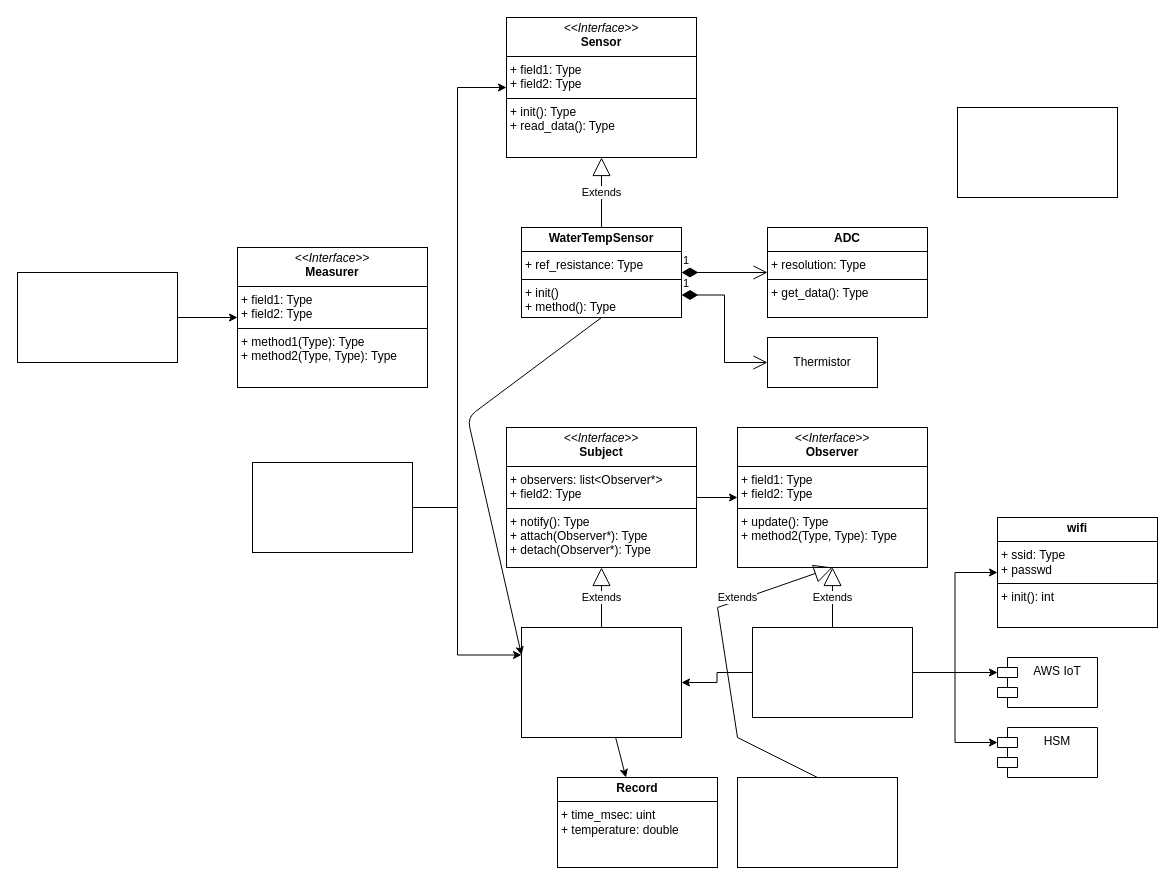
Some shapes in this 1175 by 885 pixel diagram are drawn without their labels. Here are the shapes that lost their labels. From the top down, the centre of each, then its label:
the point at 1037,152: Thermistor + field: Type + method(): Type
the point at 97,317: Arduino main + intervalSec: int + setup(): void + loop(): void
the point at 332,507: Watertemp measurer + + method1(): Type
the point at 601,682: DataBuffer + max_records: uint + records: vector<Record> + append(Record): Type
the point at 832,672: publisher + field: Type + connect(destination): int + publish(): int
the point at 817,822: Console + field: Type + print(): int
